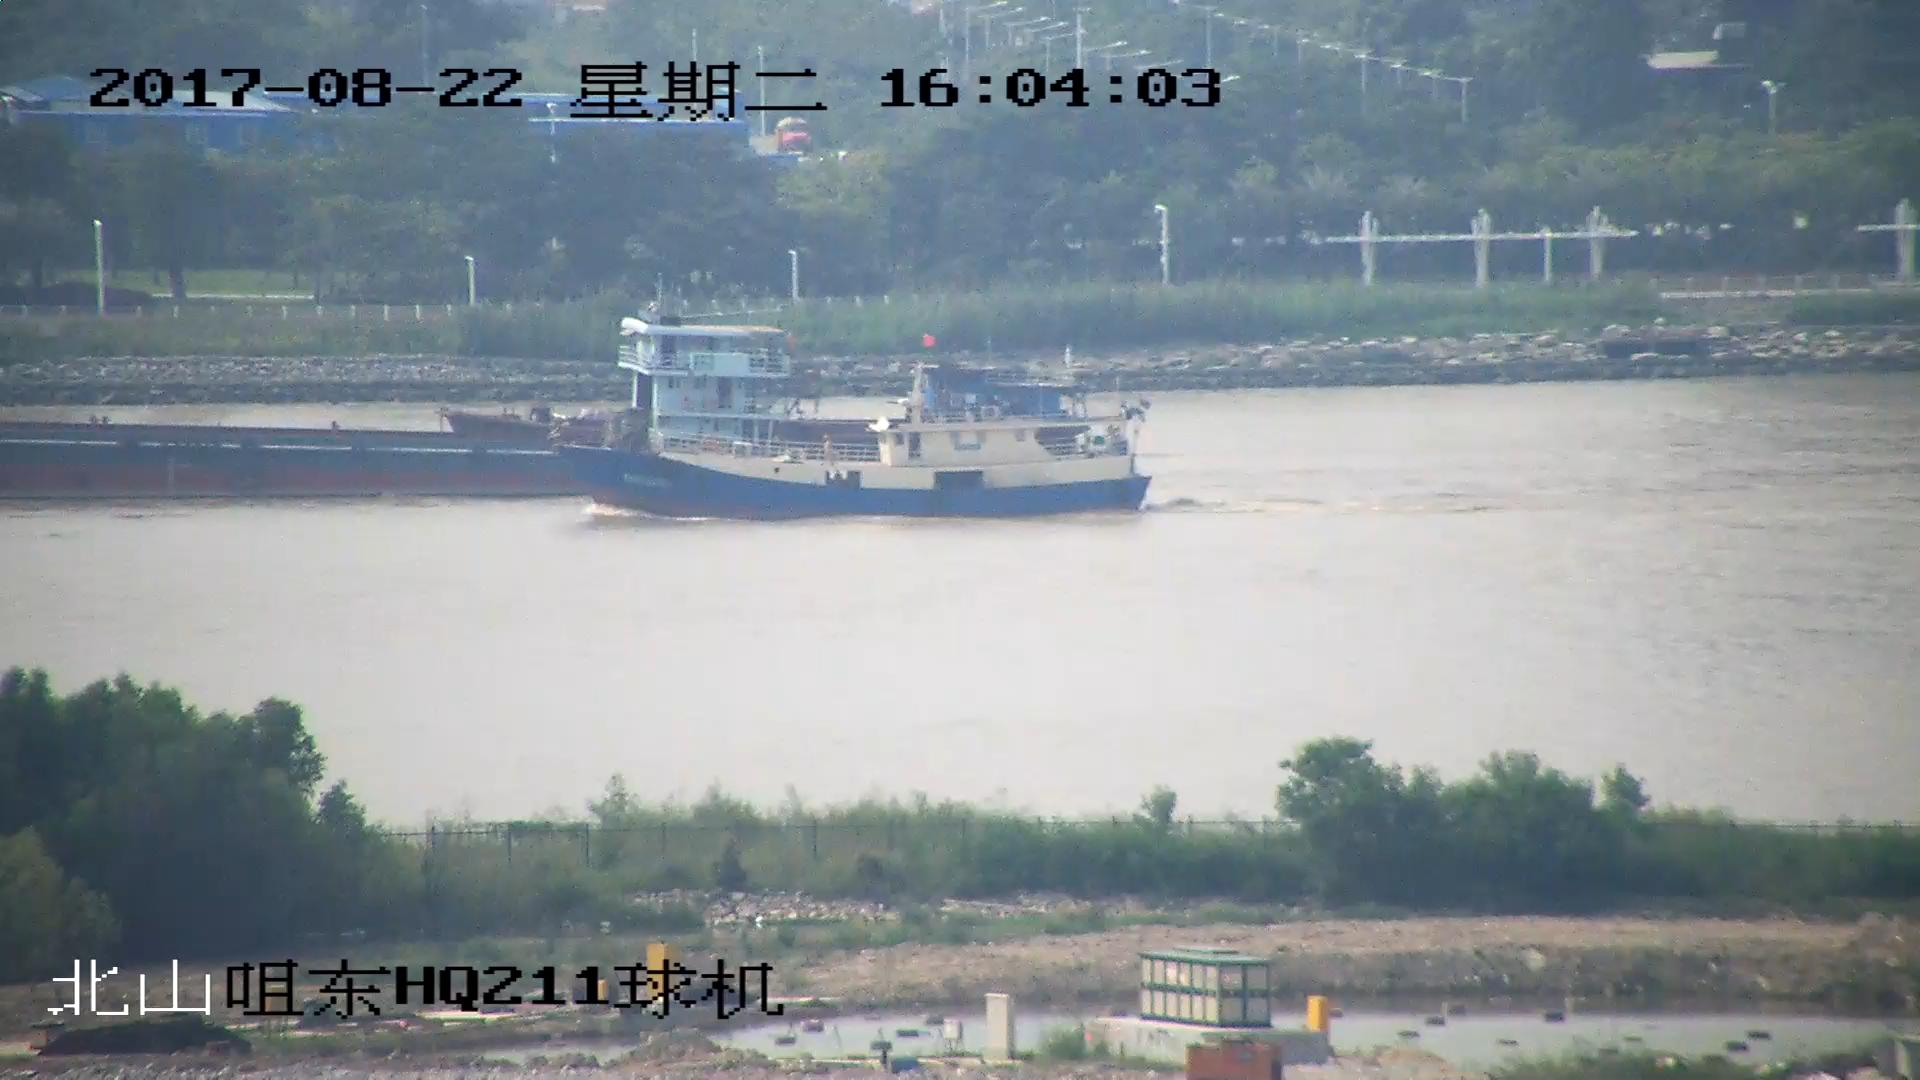bulk cargo carrier: (1, 310, 793, 508)
fishing boat: (567, 335, 1148, 525)
